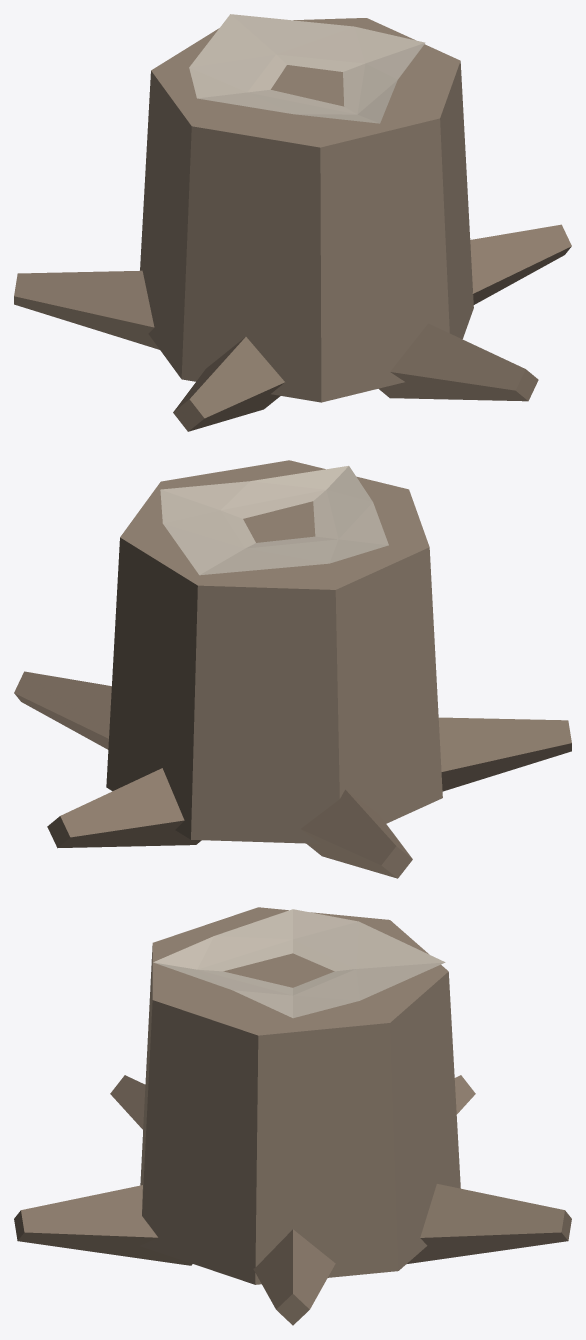
File: stump_v02.glb
3 renders of one model, top to bottom at view 1: azimuth 30°, elevation 25°; view 2: azimuth 150°, elevation 25°; view 3: azimuth 270°, elevation 25°, orthographic. The views are drawn at different scales.
Visible parts, largest first — view 1: lod0; view 2: lod0; view 3: lod0.
Boxes of the visible parts, left/top/right/bottom form: lod0: left=14, top=14, right=571, bottom=431; lod0: left=14, top=460, right=571, bottom=878; lod0: left=14, top=907, right=571, bottom=1325.
Size of what is drawn, in the model's own units: 1.07 by 0.6716 by 1.12.
